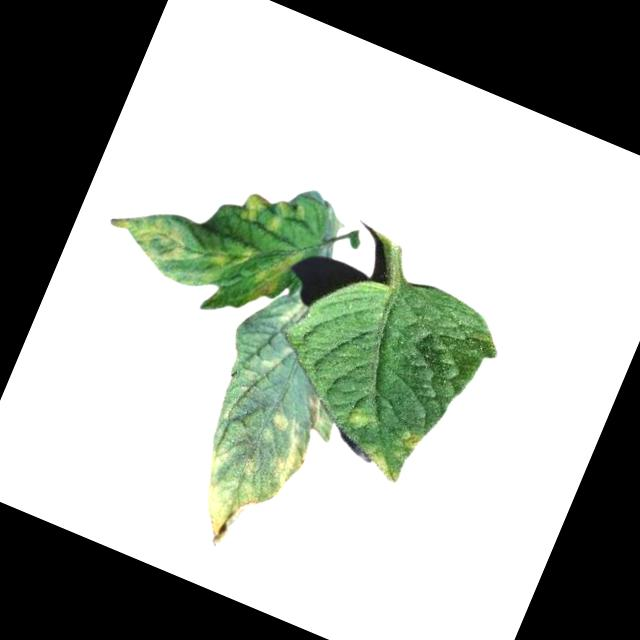Leaf_Mold: (175, 438, 275, 560), (97, 198, 196, 271), (243, 239, 302, 316), (234, 182, 307, 241), (353, 438, 409, 488), (266, 436, 311, 496), (263, 407, 294, 437), (344, 405, 374, 432), (394, 428, 422, 455)
